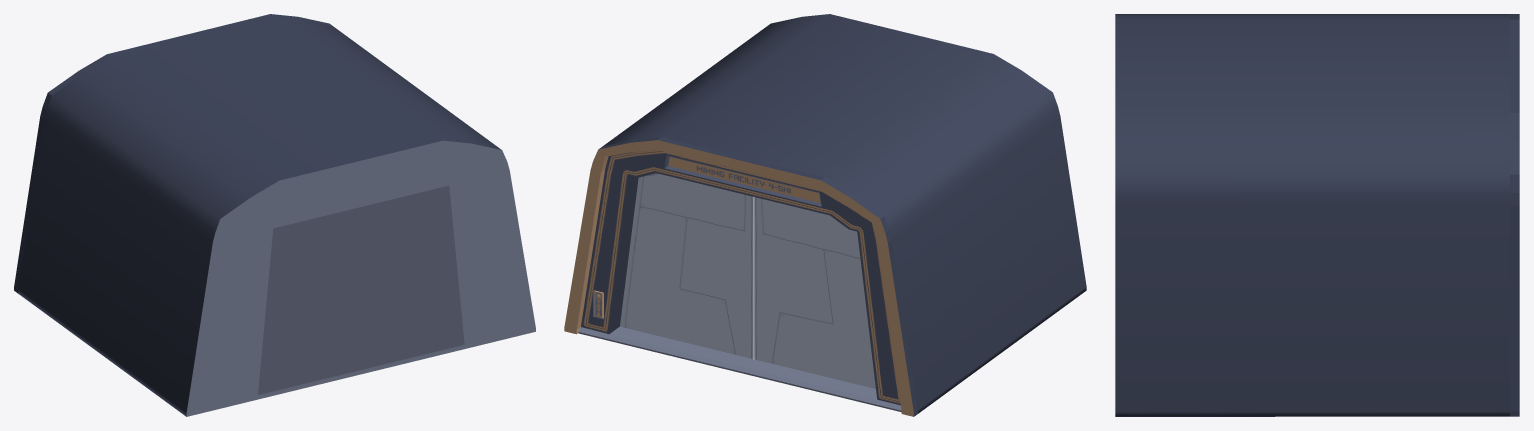
File: gategate.FBX
The picture shows the model from 3 angles, left to right: view 1: azimuth 30°, elevation 25°; view 2: azimuth 150°, elevation 25°; view 3: azimuth 270°, elevation 25°; orthographic projection. The views are drawn at different scales.
Parts seen in each view (by area): view 1: GATE; view 2: GATE; view 3: GATE.
Part boxes in pixels (x1,y1,x2,y2): GATE: (14, 14, 535, 416); GATE: (564, 14, 1086, 416); GATE: (1115, 14, 1519, 416).
Bounding box in the file's own units: 1250 × 732 × 1070.
